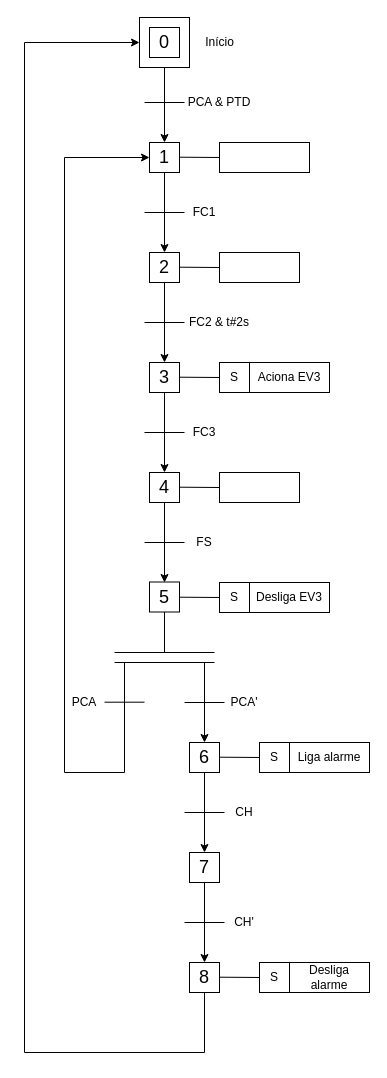
The diagram is 387 pixels wide and 1078 high, and some of its shapes have lost their labels. The centre of each missing label's shape, as x and y in pixels:
Aciona EV1: point (264, 157)
Aciona EV2: point (259, 267)
Aciona EV4: point (259, 487)
